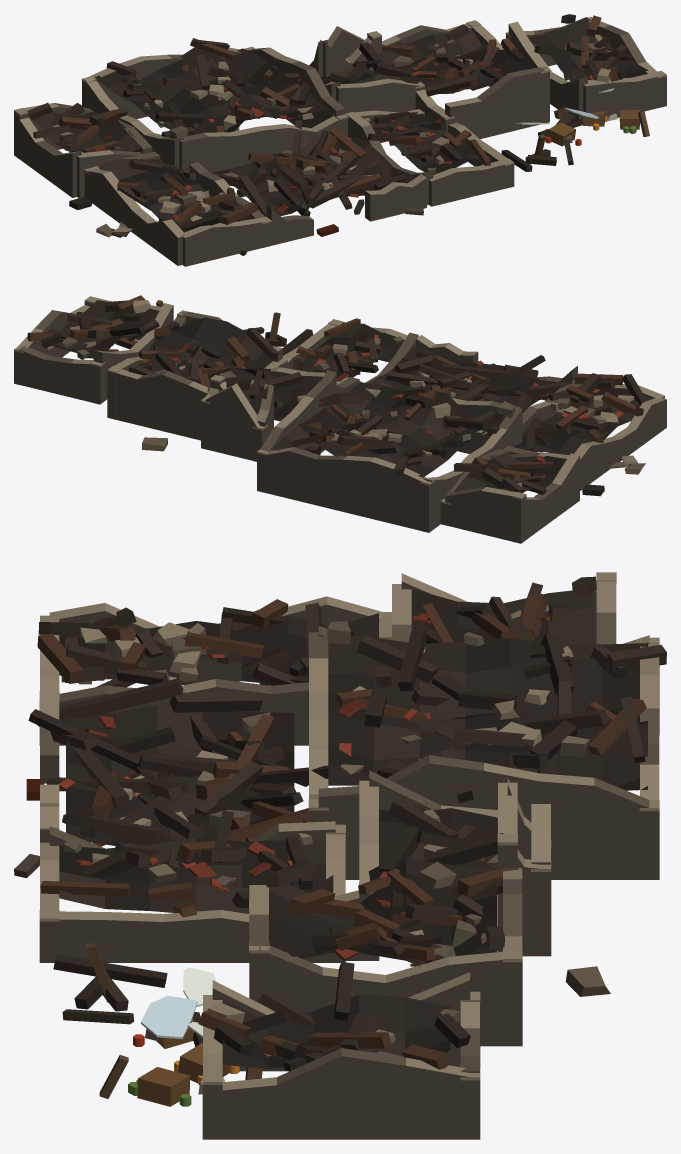
Rendered from VerBuild07b.glb.
3 views of the same model, one above another, from view 1: azimuth 30°, elevation 25°; view 2: azimuth 150°, elevation 25°; view 3: azimuth 270°, elevation 25° (orthographic). The views are drawn at different scales.
Parts seen in each view (by area): view 1: VerBuild07b_adobe; view 2: VerBuild07b_adobe; view 3: VerBuild07b_adobe.
Boxes of the visible parts, bbox=[...] form: VerBuild07b_adobe: bbox=[14, 14, 666, 266]; VerBuild07b_adobe: bbox=[14, 295, 666, 543]; VerBuild07b_adobe: bbox=[14, 572, 666, 1139].
Size of the model in its own units: 18.44 by 2.23 by 10.16.
